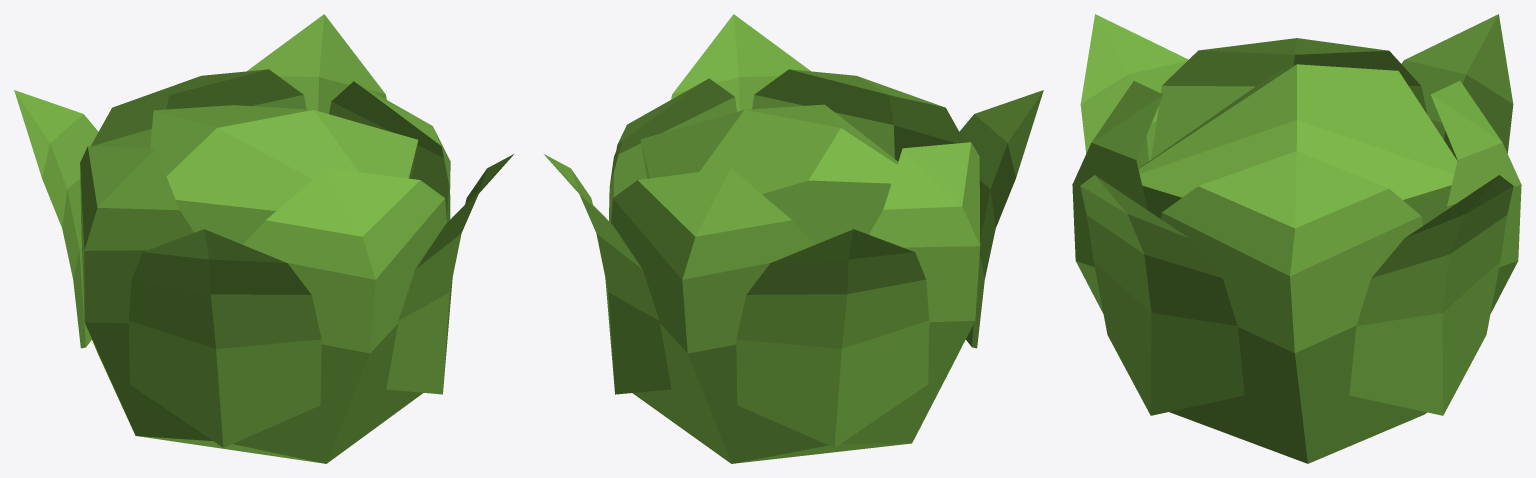
File: cabbage.glb
The picture shows the model from 3 angles, left to right: view 1: azimuth 30°, elevation 25°; view 2: azimuth 150°, elevation 25°; view 3: azimuth 270°, elevation 25°; orthographic projection. The views are drawn at different scales.
Visible parts, largest first — view 1: cabbage; view 2: cabbage; view 3: cabbage.
Boxes of the visible parts, x1,y1,x2,y2 form: cabbage: (14,14,513,463); cabbage: (544,14,1043,463); cabbage: (1072,14,1521,463).
Size of the model in its own units: 0.4407 by 0.3371 by 0.4408.
Materials: 1 (1 with a texture image).
